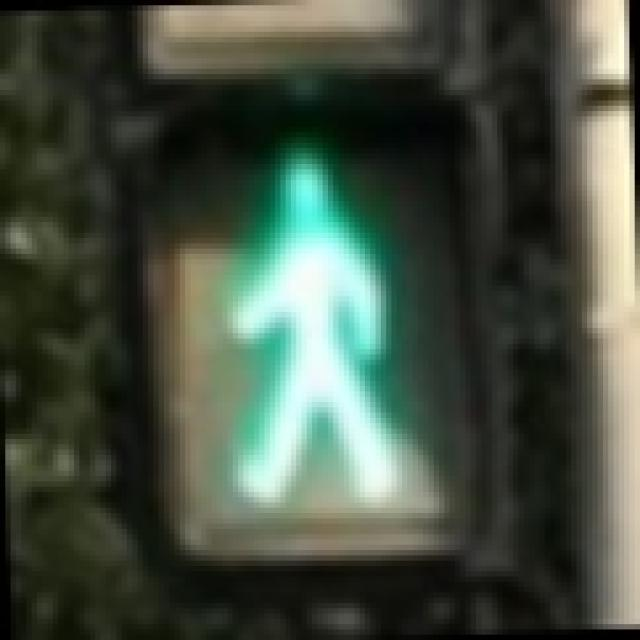green_light: (148, 90, 471, 534)
